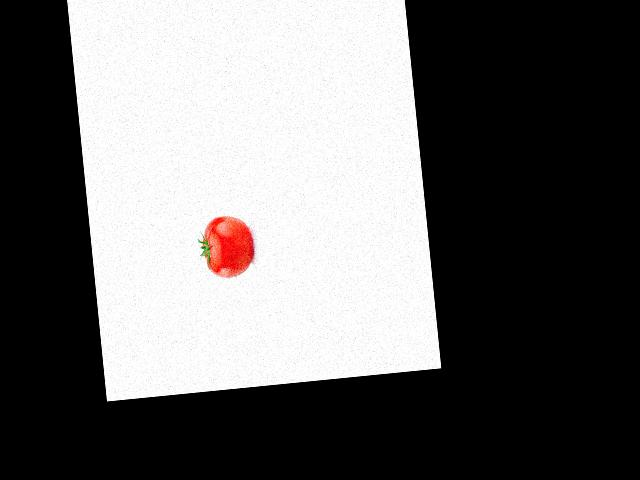tomato: (200, 213, 254, 279)
